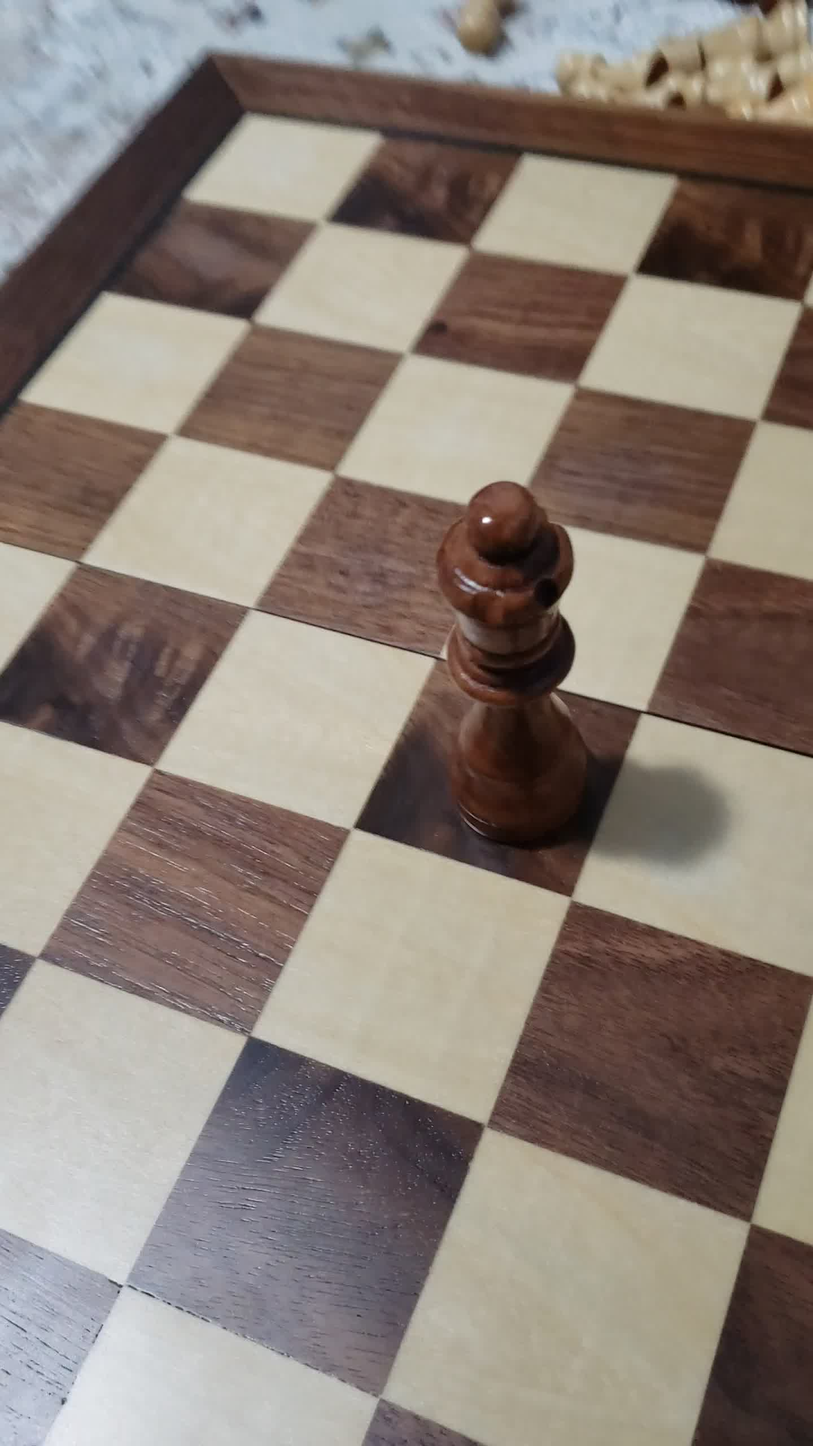black-queen: (395, 469, 622, 881)
